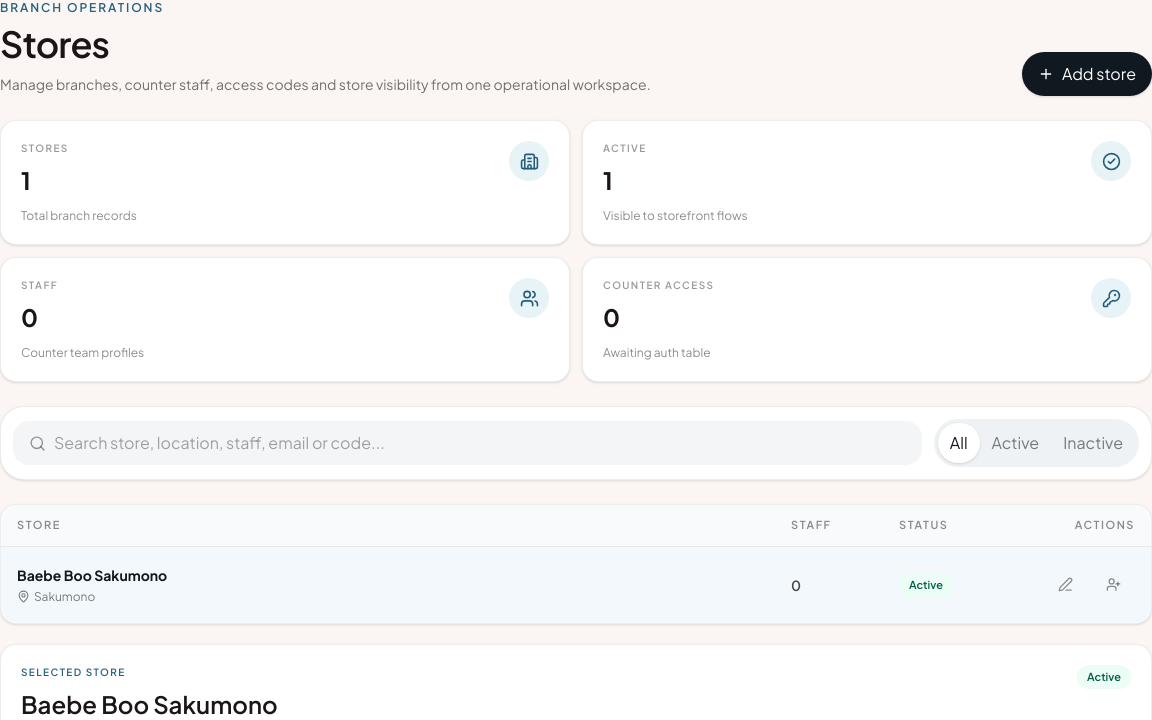
Test: StoreManagement — the create form is not an edit form › names the store being edited when editing
Click the button named "Edit Baebe Boo Sakumono" at (1065, 584), box [1043,562,1087,606]
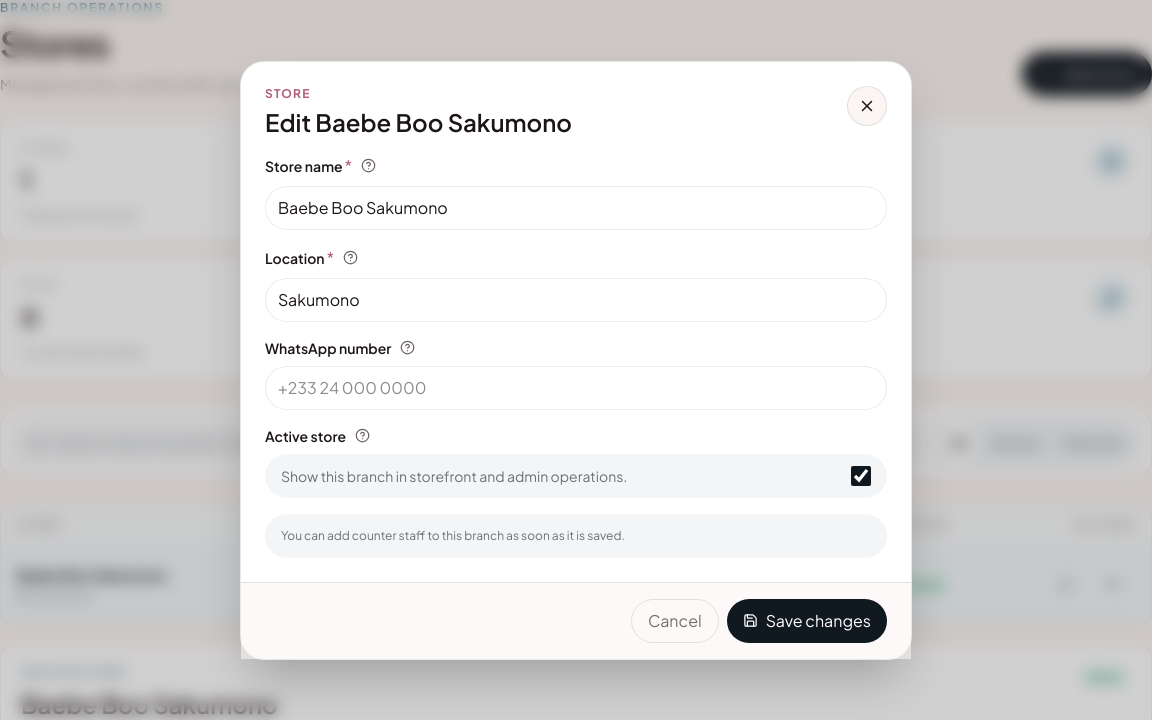
Now the heading "Edit Baebe Boo Sakumono" is shown, box [265,106,572,138]
Now the field labelled "Store name" holds "Baebe Boo Sakumono", box [265,186,887,230]
